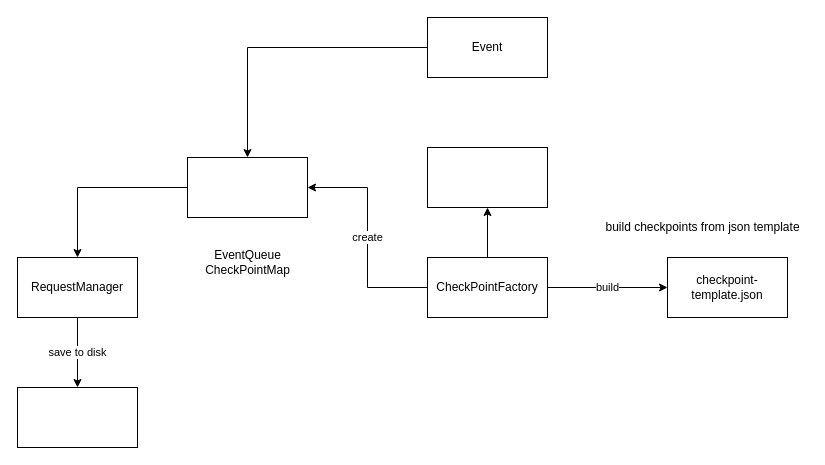
The diagram is 825 pixels wide and 465 high, and some of its shapes have lost their labels. Here are the shapes that lost their labels. From the top down, the centre of each, then its label:
At (247,187): "Request".
At (487,177): "CheckPoint".
